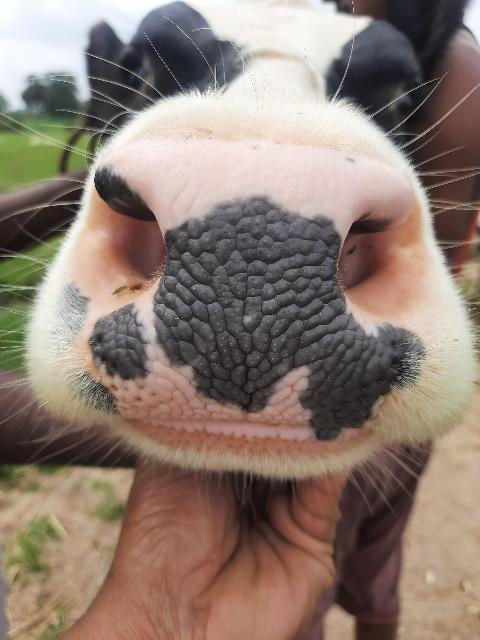Muzzle: (138, 152, 350, 438)
